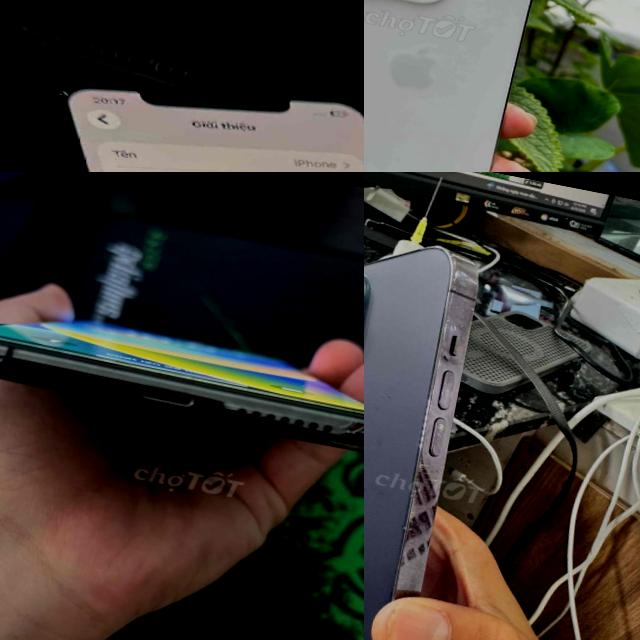gen_11: (0, 320, 364, 450), (53, 86, 364, 172)
gen_14: (364, 210, 516, 640), (364, 0, 559, 172)
scratch: (396, 318, 471, 542), (450, 259, 484, 304)
